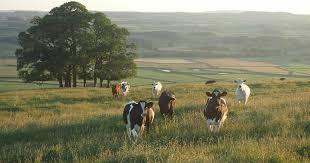cow: (123, 100, 154, 140), (203, 89, 228, 133), (158, 90, 176, 119), (234, 78, 250, 105), (151, 80, 162, 98), (120, 80, 130, 96), (112, 83, 120, 97)
